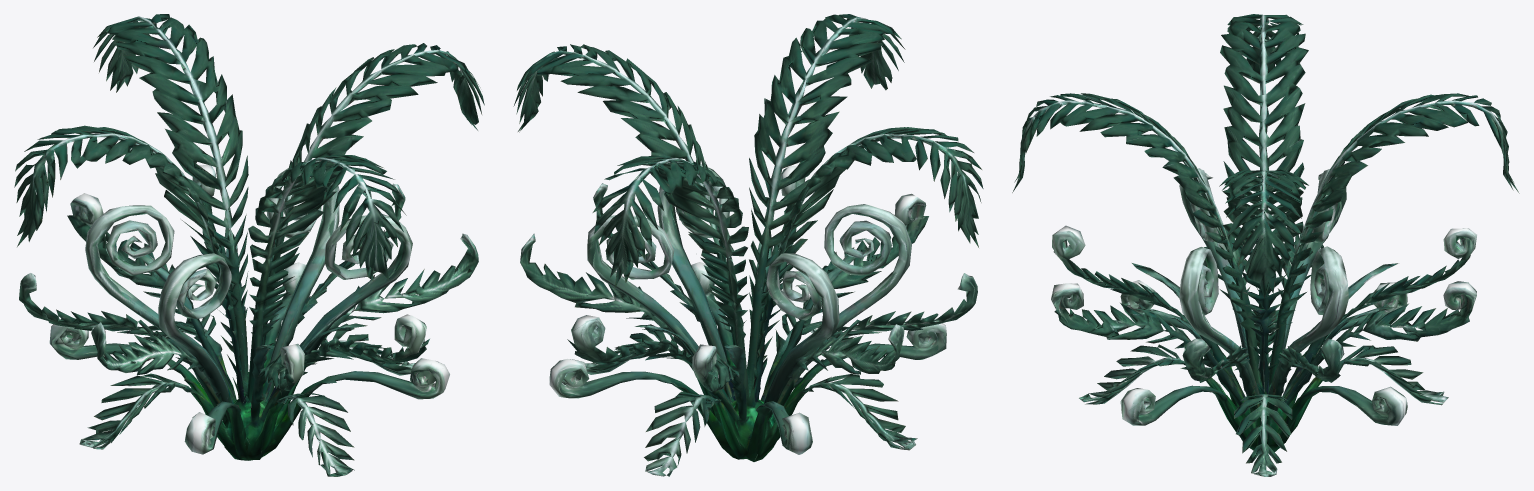
3 views of the same model, side by side, from view 1: azimuth 30°, elevation 25°; view 2: azimuth 150°, elevation 25°; view 3: azimuth 270°, elevation 25° (orthographic). The views are drawn at different scales.
Parts seen in each view (by area): view 1: Mesh_0; view 2: Mesh_0; view 3: Mesh_0.
Boxes of the visible parts, left/top/right/bottom form: Mesh_0: left=14, top=14, right=484, bottom=476; Mesh_0: left=513, top=14, right=983, bottom=476; Mesh_0: left=1012, top=14, right=1519, bottom=476.
Bounding box in the file's own units: 1.91 × 1.43 × 1.89.
Materials: 1 (1 with a texture image).
